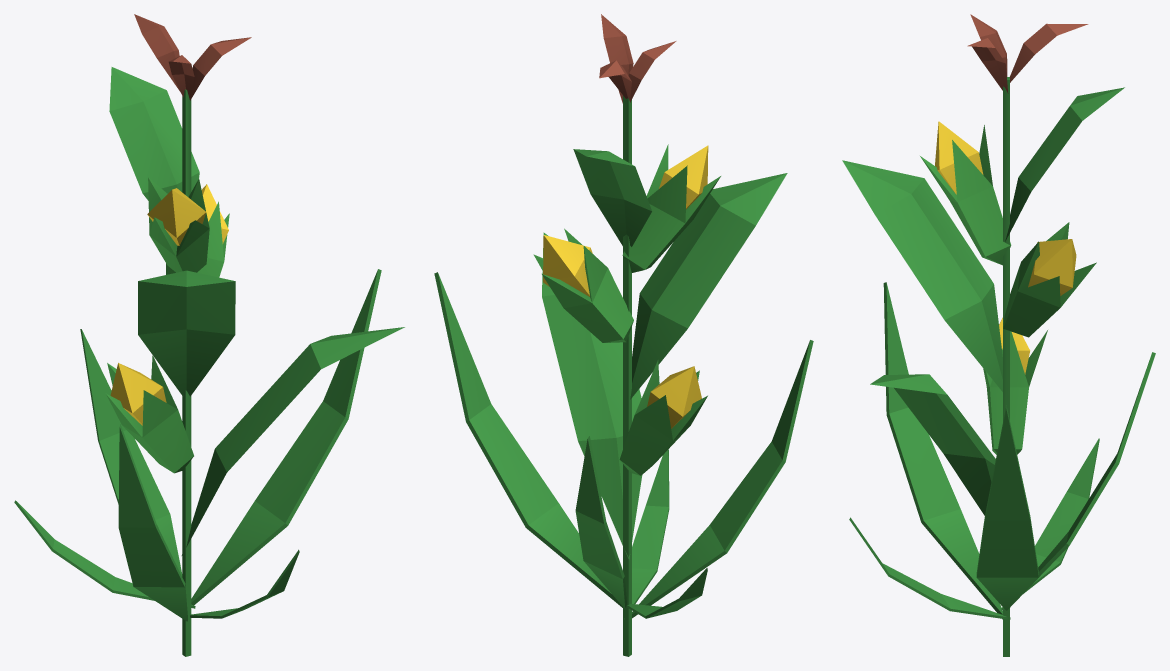
Rendered from plant_001.glb.
3 renders of one model, left to right at view 1: azimuth 30°, elevation 25°; view 2: azimuth 150°, elevation 25°; view 3: azimuth 270°, elevation 25°, orthographic. The views are drawn at different scales.
Visible parts, largest first — view 1: plant_001; view 2: plant_001; view 3: plant_001.
Part boxes in pixels (<box>): plant_001: <box>14,14,404,656</box>; plant_001: <box>434,14,813,656</box>; plant_001: <box>842,14,1155,656</box>.
Bounding box in the file's own units: 1.44 × 2.66 × 1.19.
Materials: 1 (1 with a texture image).
